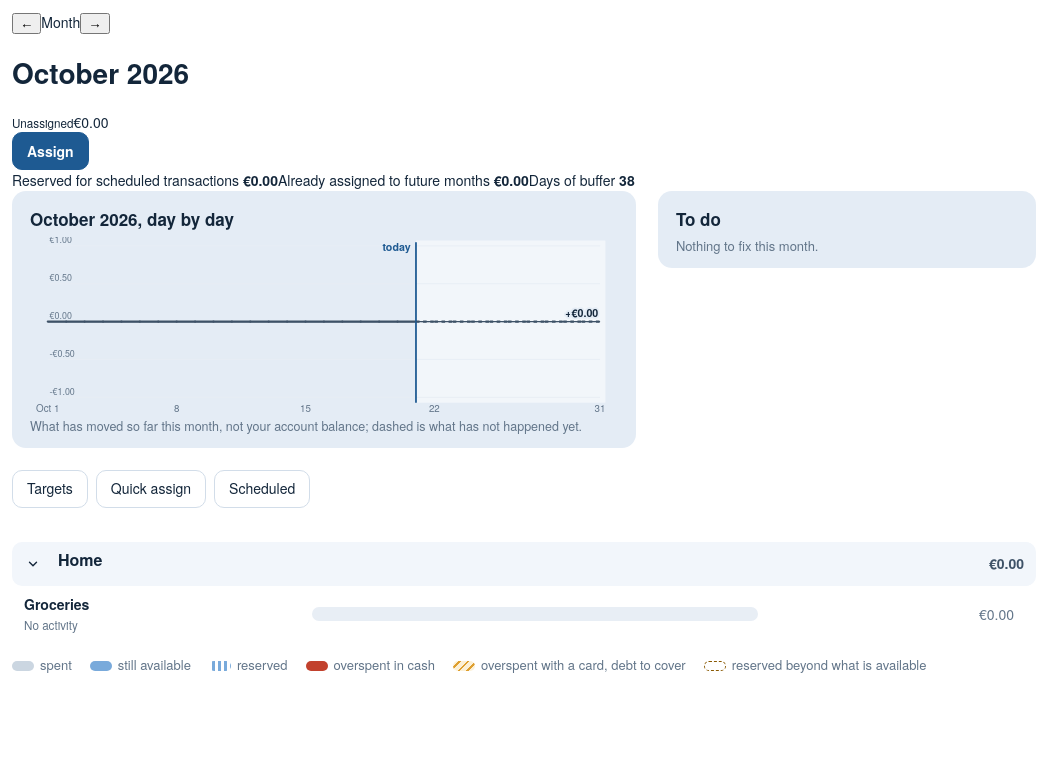
Scenario: BudgetScreen (#53, #324) › collapses and expands a group
Check: the text "Groceries" is shown, box [24,594,89,614]
Click the button with aria-label "Close Home": (63,564) [18,548,108,580]
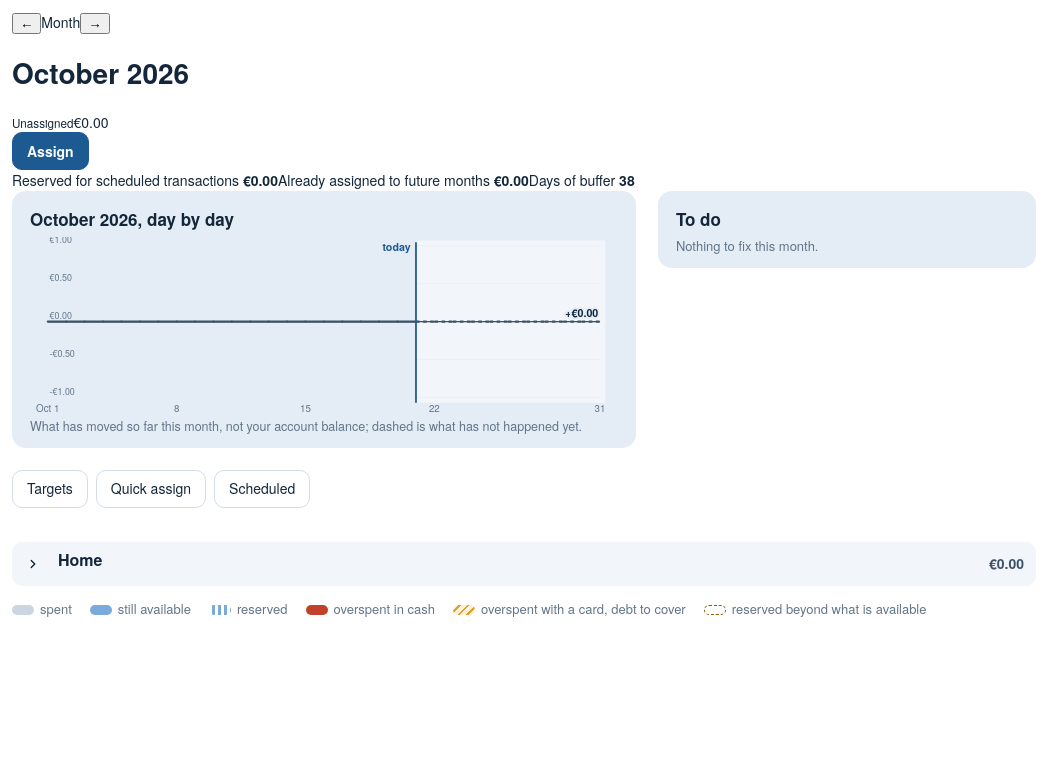
Check: the button "Groceries" is gone
Click the button with aria-label "Open Home": (63,564) [18,548,108,580]
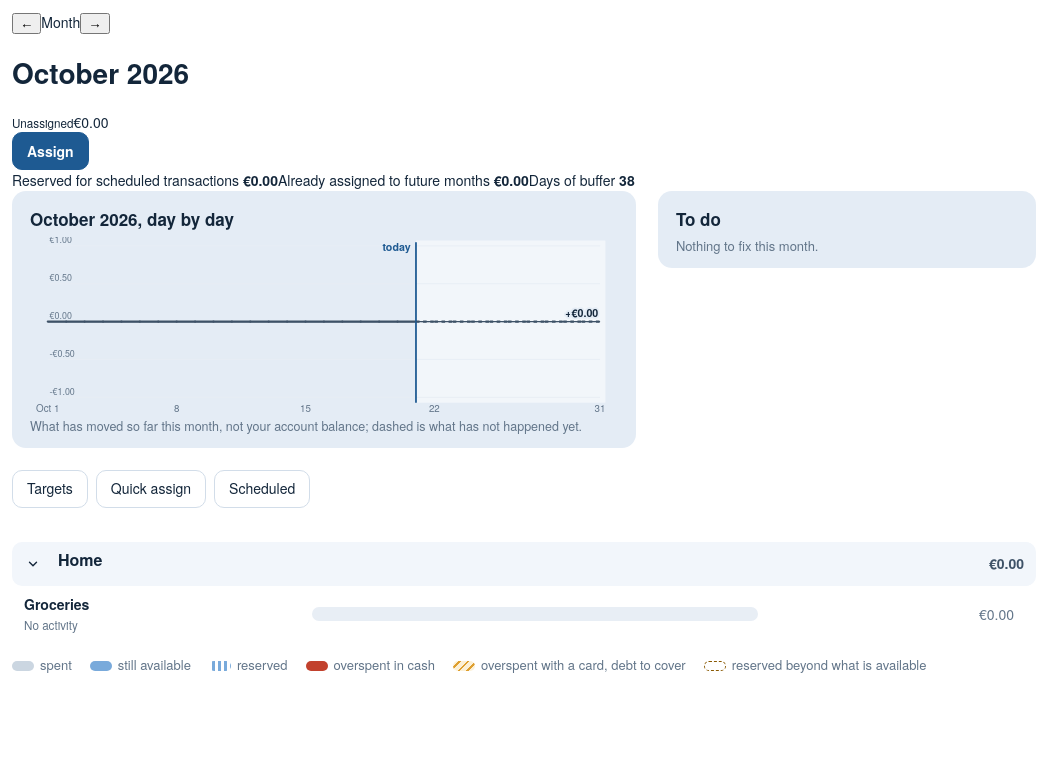
Check: the text "Groceries" is shown, box [24,594,89,614]
